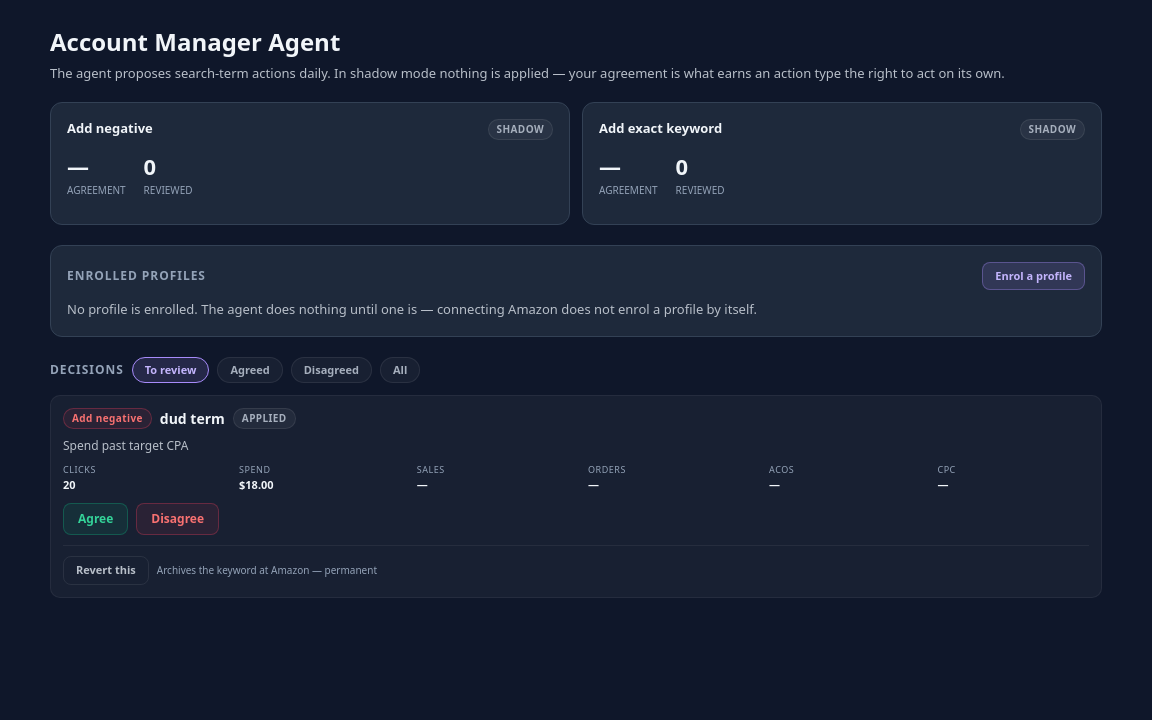
it: performing a revert › records the disagreement in the row, as the server does
Check: the text "dud term" is shown, box [160,408,225,429]
Click the button "Revert this" at (106,570), box [63,556,149,584]
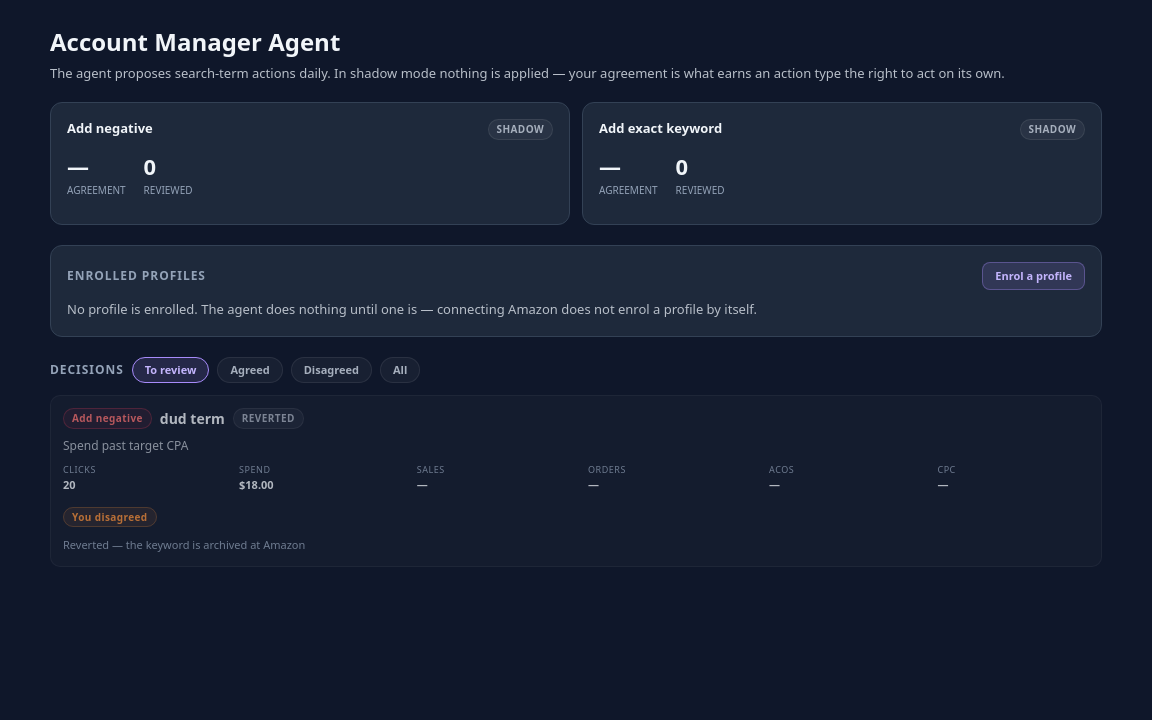
Check: the text "Reverted — the keyword is archived at Amazon" is shown, box [63,537,305,552]
Check: the text "You disagreed" is shown, box [63,507,156,527]
